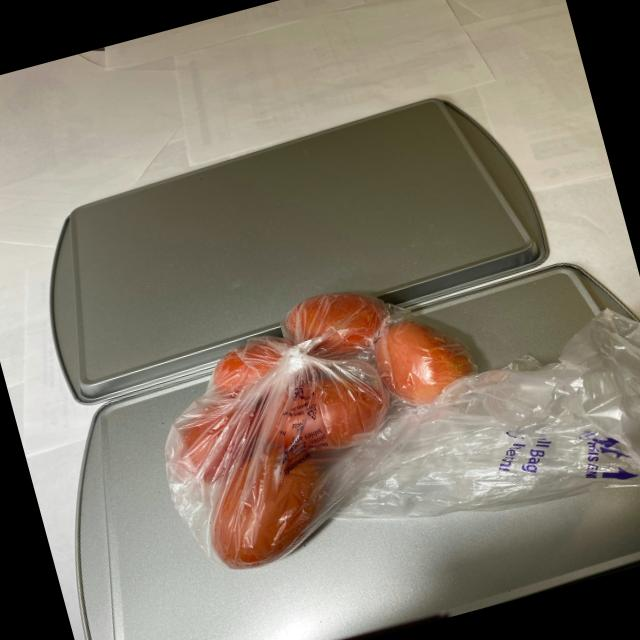tomato: (138, 256, 526, 584)
